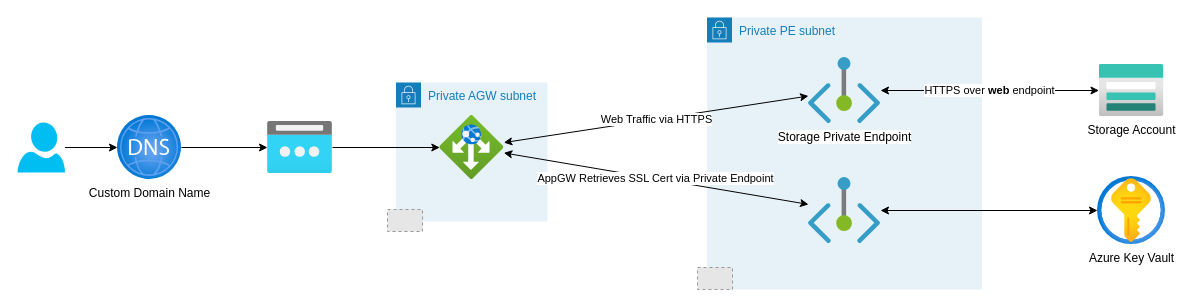
Image size: 1192x307. Some labels were removed from this diagram. Grey dashed boxes stand in for pictures. The shapes that lost their labels are listed below. From the top down, each one's centre as x and y in pixels, then its label:
At pixel 299 147: "Public IP Address".
At pixel 471 147: "Application Gateway".
At pixel 844 210: "AKV Private Endpoint".
